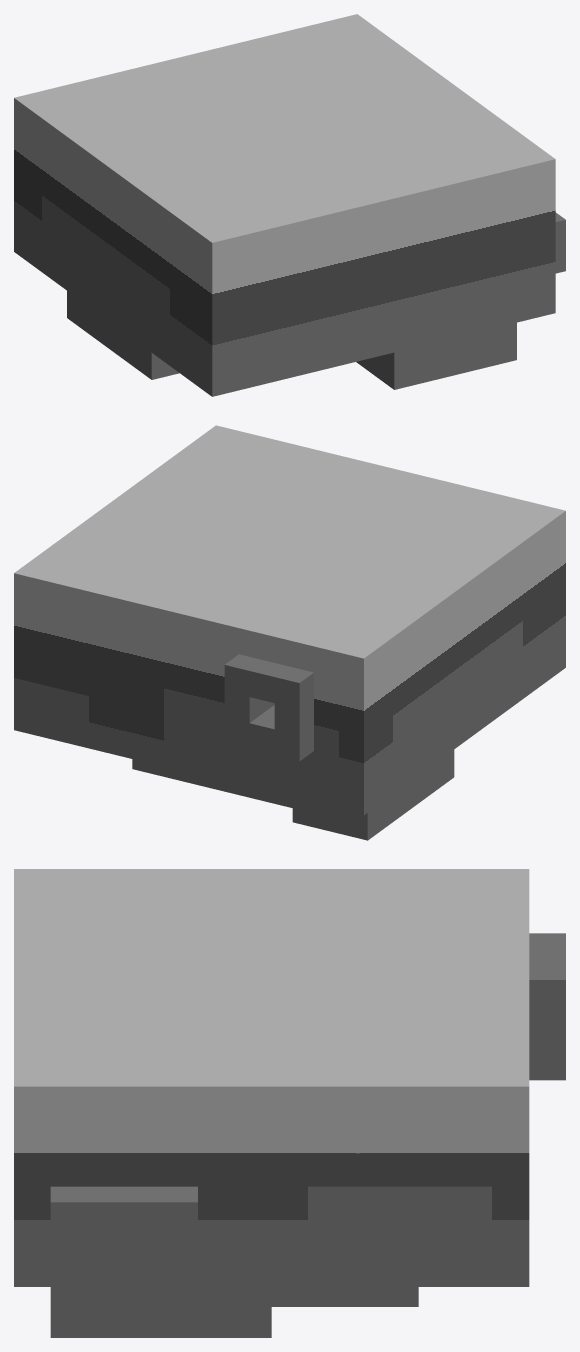
File: Matrix.dae
3 renders of one model, top to bottom at view 1: azimuth 30°, elevation 25°; view 2: azimuth 150°, elevation 25°; view 3: azimuth 270°, elevation 25°, orthographic. The views are drawn at different scales.
Parts seen in each view (by area): view 1: Matrix; view 2: Matrix; view 3: Matrix.
Boxes of the visible parts, <box> form: Matrix: <box>14,14,565,396</box>; Matrix: <box>14,425,565,840</box>; Matrix: <box>14,869,565,1337</box>.
Size of the model in its own units: 15 by 8 by 15.
Materials: 1 (1 with a texture image).
